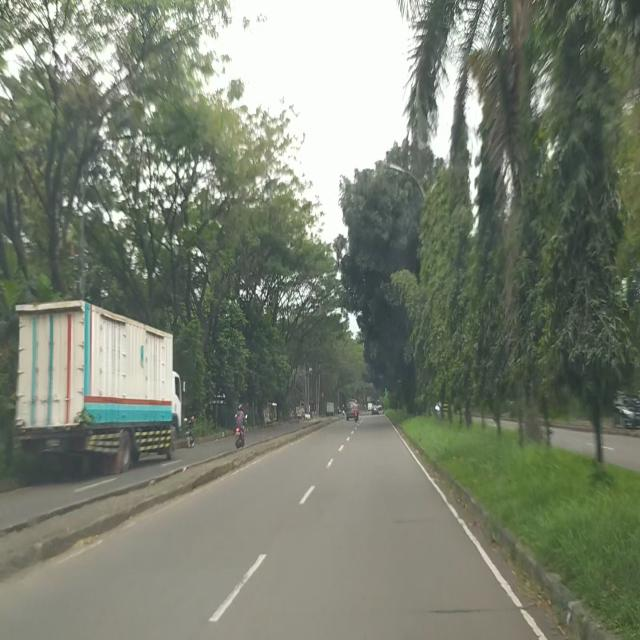Sewer Cover: (429, 606, 521, 618), (395, 517, 455, 524)
